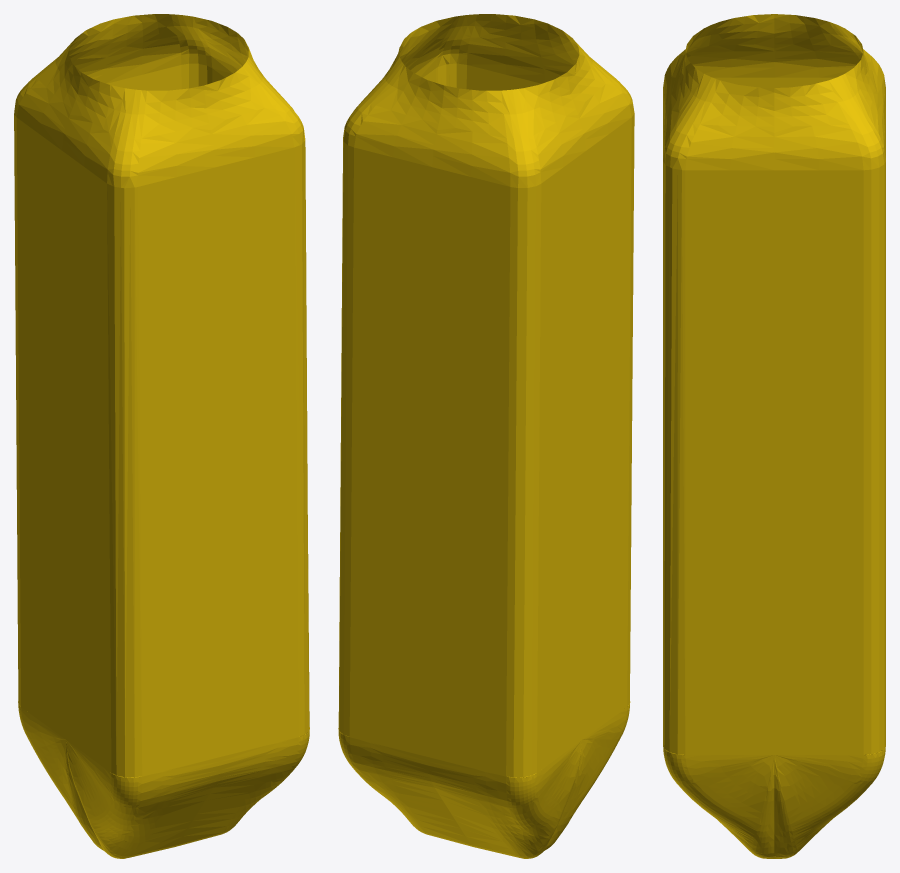
File: frontalRot.dae
3 views of the same model, side by side, from view 1: azimuth 30°, elevation 25°; view 2: azimuth 150°, elevation 25°; view 3: azimuth 270°, elevation 25° (orthographic).
Parts seen in each view (by area): view 1: rotorCm2; view 2: rotorCm2; view 3: rotorCm2.
Part boxes in pixels (x1,y1,x2,y2): rotorCm2: [14, 14, 309, 858]; rotorCm2: [338, 14, 634, 858]; rotorCm2: [663, 14, 885, 858].
Size of the model in its own units: 0.0511 by 0.05 by 0.1939.
